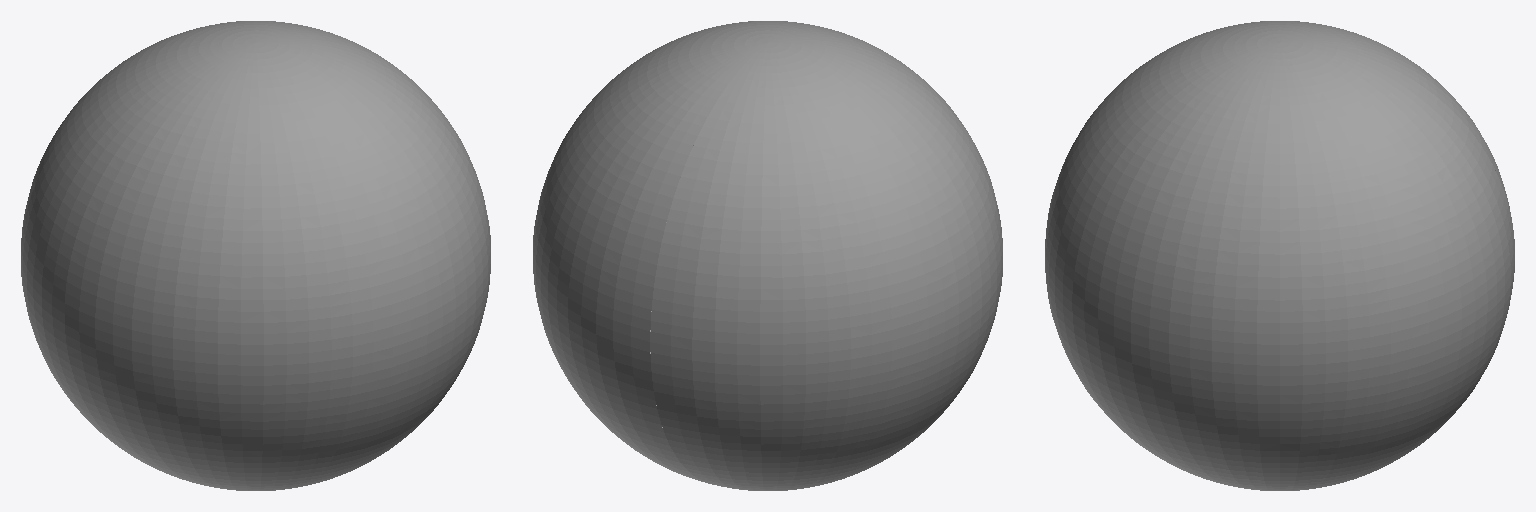
The model's file is orientedplanet.obj.
3 views of the same model, side by side, from view 1: azimuth 30°, elevation 25°; view 2: azimuth 150°, elevation 25°; view 3: azimuth 270°, elevation 25° (orthographic).
Visible parts, largest first — view 1: Plane; view 2: Plane; view 3: Plane.
Part boxes in pixels (bbox=[...]): Plane: bbox=[21, 21, 490, 490]; Plane: bbox=[533, 21, 1002, 490]; Plane: bbox=[1045, 21, 1514, 490].
Size of the model in its own units: 5.21 by 5.21 by 5.21.